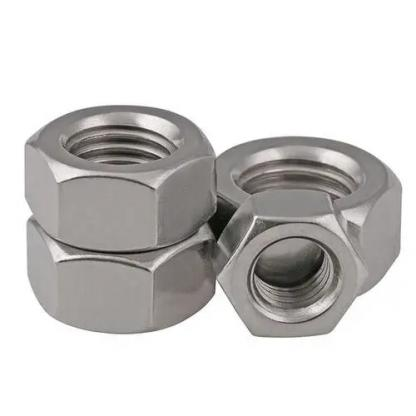FOD: (17, 94, 414, 343)
